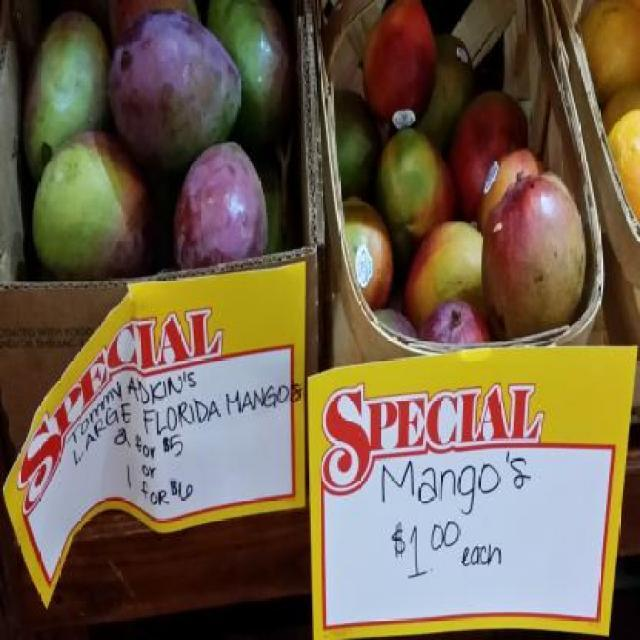Mango: (337, 0, 586, 345), (21, 0, 289, 275), (110, 8, 241, 168)
